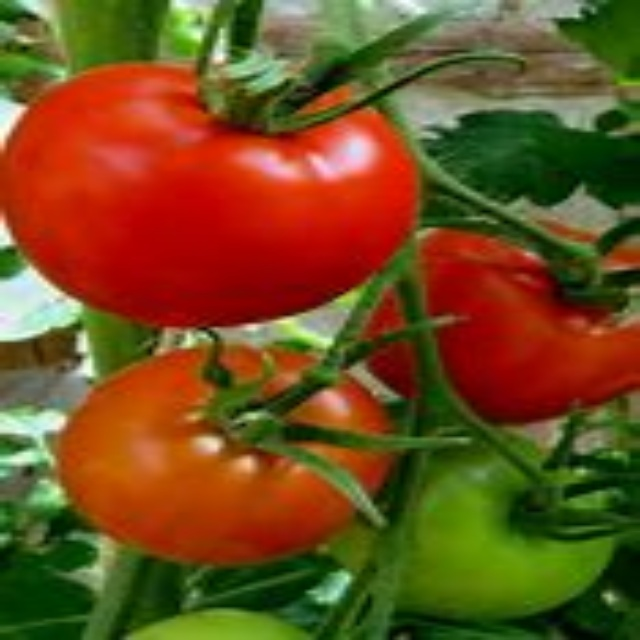tomato: (7, 76, 419, 330), (66, 351, 383, 553), (370, 226, 639, 420), (372, 452, 619, 618)
